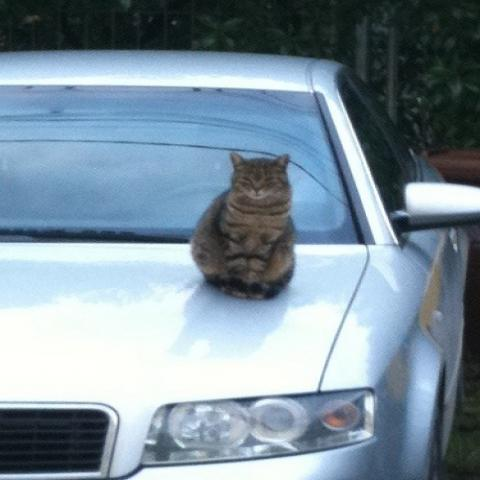car: (6, 52, 479, 473)
